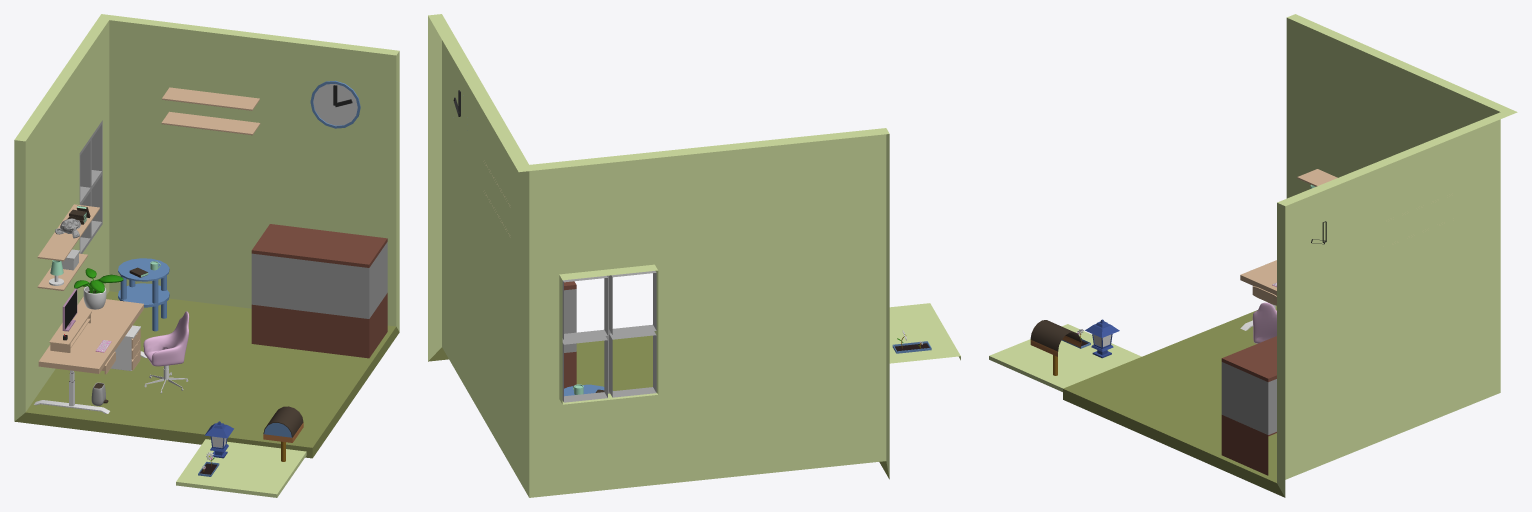
Rendered from room_portfolio.glb.
The picture shows the model from 3 angles, left to right: view 1: azimuth 30°, elevation 25°; view 2: azimuth 150°, elevation 25°; view 3: azimuth 270°, elevation 25°; orthographic projection. The views are drawn at different scales.
Parts seen in each view (by area): view 1: Cube.004, Cube.068, AquaGlass, Cube.076, Table Top, Plane, Cylinder.014, Cube.067, Table Top.007, Table Top.008, Cylinder.015, Table Top.005 (+7 smaller); view 2: Cube.004, Plane, Cube.076, AquaGlass; view 3: Cube.004, Cube.076, Cube.068, AquaGlass, Cylinder.015, Cube.067, Table Top, Plane.019.
Part boxes in pixels (x1,y1,x2,y2): Cube.004: [14, 14, 399, 458]; Cube.068: [251, 224, 387, 358]; AquaGlass: [251, 242, 387, 318]; Cube.076: [176, 439, 306, 497]; Table Top: [38, 296, 143, 373]; Plane: [79, 120, 102, 253]; Cylinder.014: [310, 80, 360, 128]; Cube.067: [143, 311, 189, 366]; Table Top.007: [161, 111, 260, 135]; Table Top.008: [162, 87, 259, 110]; Cylinder.015: [263, 406, 303, 442]; Table Top.005: [37, 204, 99, 261]; Cube.004: [428, 14, 889, 497]; Plane: [562, 271, 656, 402]; Cube.076: [889, 303, 960, 363]; AquaGlass: [564, 289, 576, 352]; Cube.004: [1063, 14, 1517, 497]; Cube.076: [989, 324, 1141, 391]; Cube.068: [1221, 336, 1276, 475]; AquaGlass: [1221, 362, 1276, 434]; Cylinder.015: [1030, 320, 1080, 356]; Cube.067: [1252, 302, 1276, 343]; Table Top: [1240, 260, 1276, 295]; Plane.019: [1085, 319, 1119, 358].
Size of the model in its own units: 25.38 by 17.95 by 29.5.
